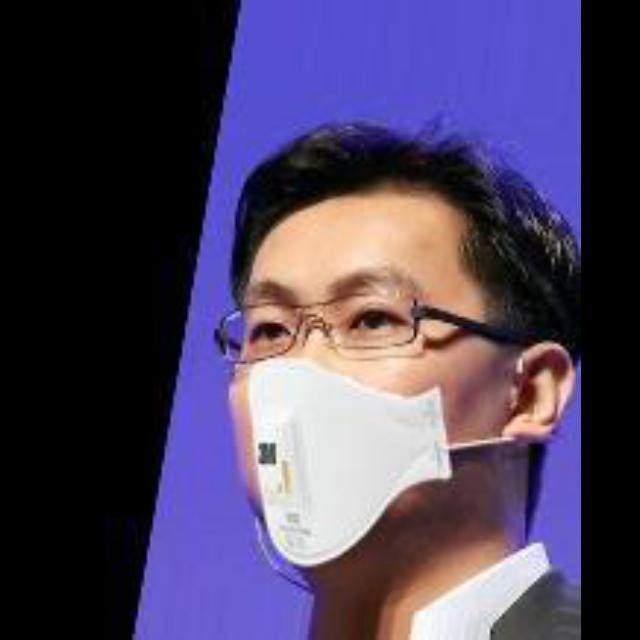suspicion: (211, 120, 577, 578)
